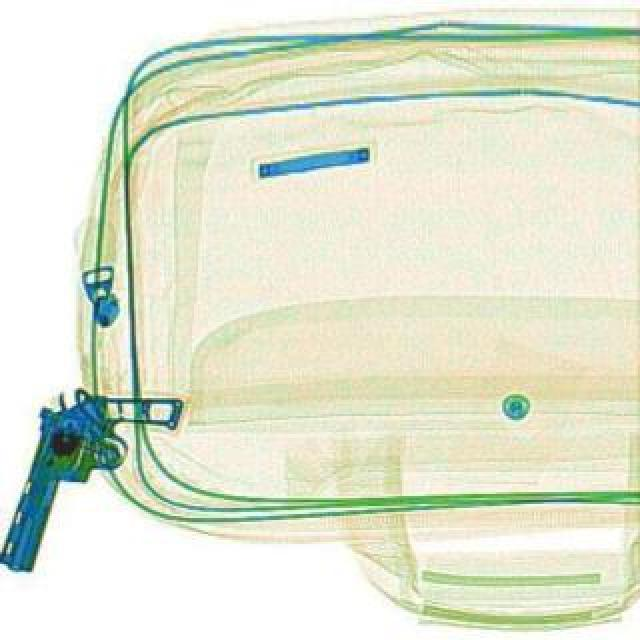gun: (0, 366, 176, 584)
